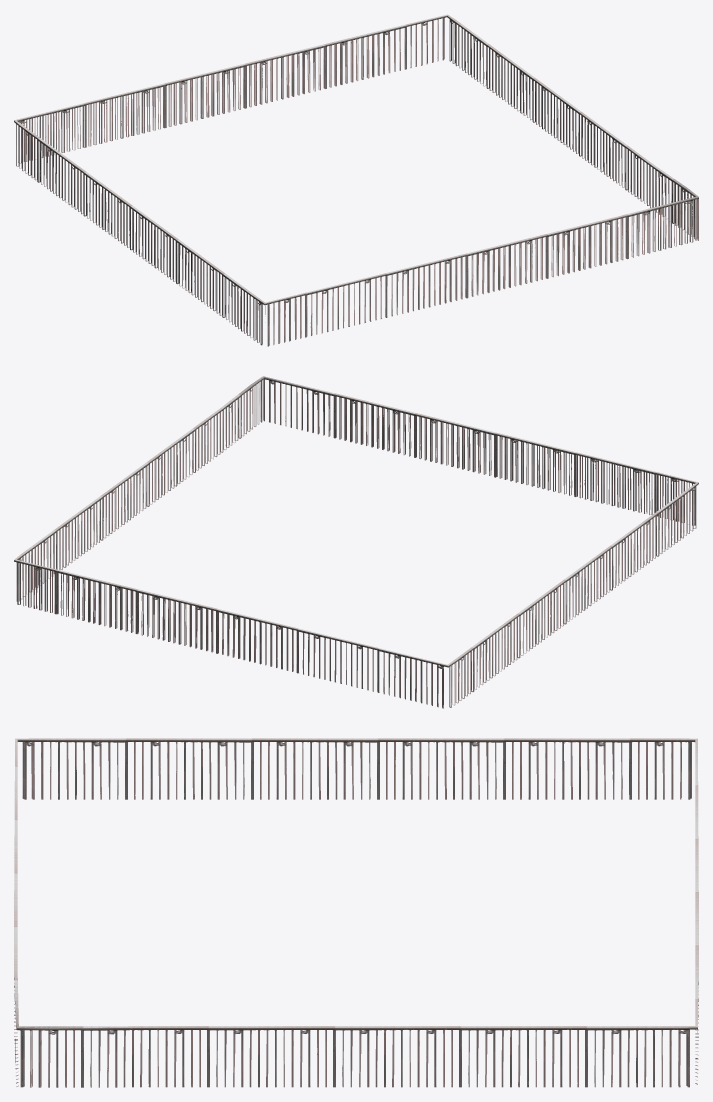
Rendered from yk_aita_square.fbx.
The picture shows the model from 3 angles, top to bottom: view 1: azimuth 30°, elevation 25°; view 2: azimuth 150°, elevation 25°; view 3: azimuth 270°, elevation 25°; orthographic projection. The views are drawn at different scales.
Visible parts, largest first — view 1: kaide2; view 2: kaide2; view 3: kaide2.
Part boxes in pixels (x1,y1,x2,y2): kaide2: (14,14,698,346); kaide2: (14,376,698,708); kaide2: (14,738,698,1087).
Size of the model in its own units: 1206 by 117 by 1203.
